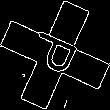P_SE: (25, 28, 85, 82)
